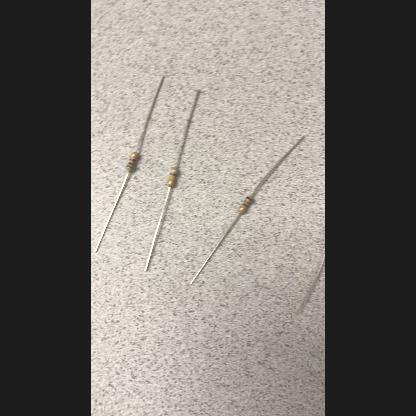resistor: (126, 152, 140, 172), (239, 196, 253, 214), (168, 167, 178, 187)
wire: (190, 214, 240, 284), (250, 136, 306, 196), (94, 172, 130, 252), (134, 77, 164, 153), (144, 187, 170, 271), (173, 90, 201, 168), (297, 252, 325, 314)
